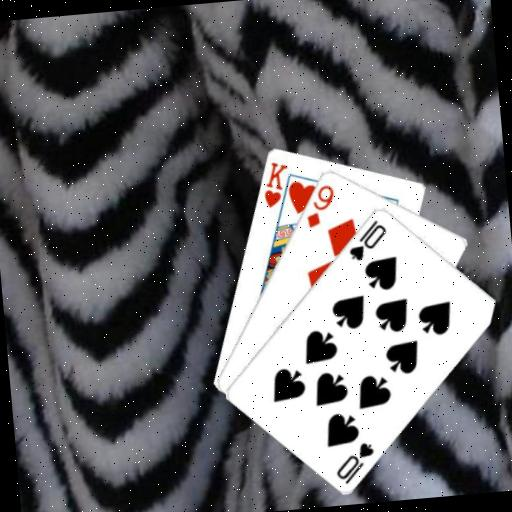10S: (330, 437, 379, 486), (343, 216, 391, 264)
9D: (301, 181, 339, 230)
KH: (257, 157, 292, 210)
